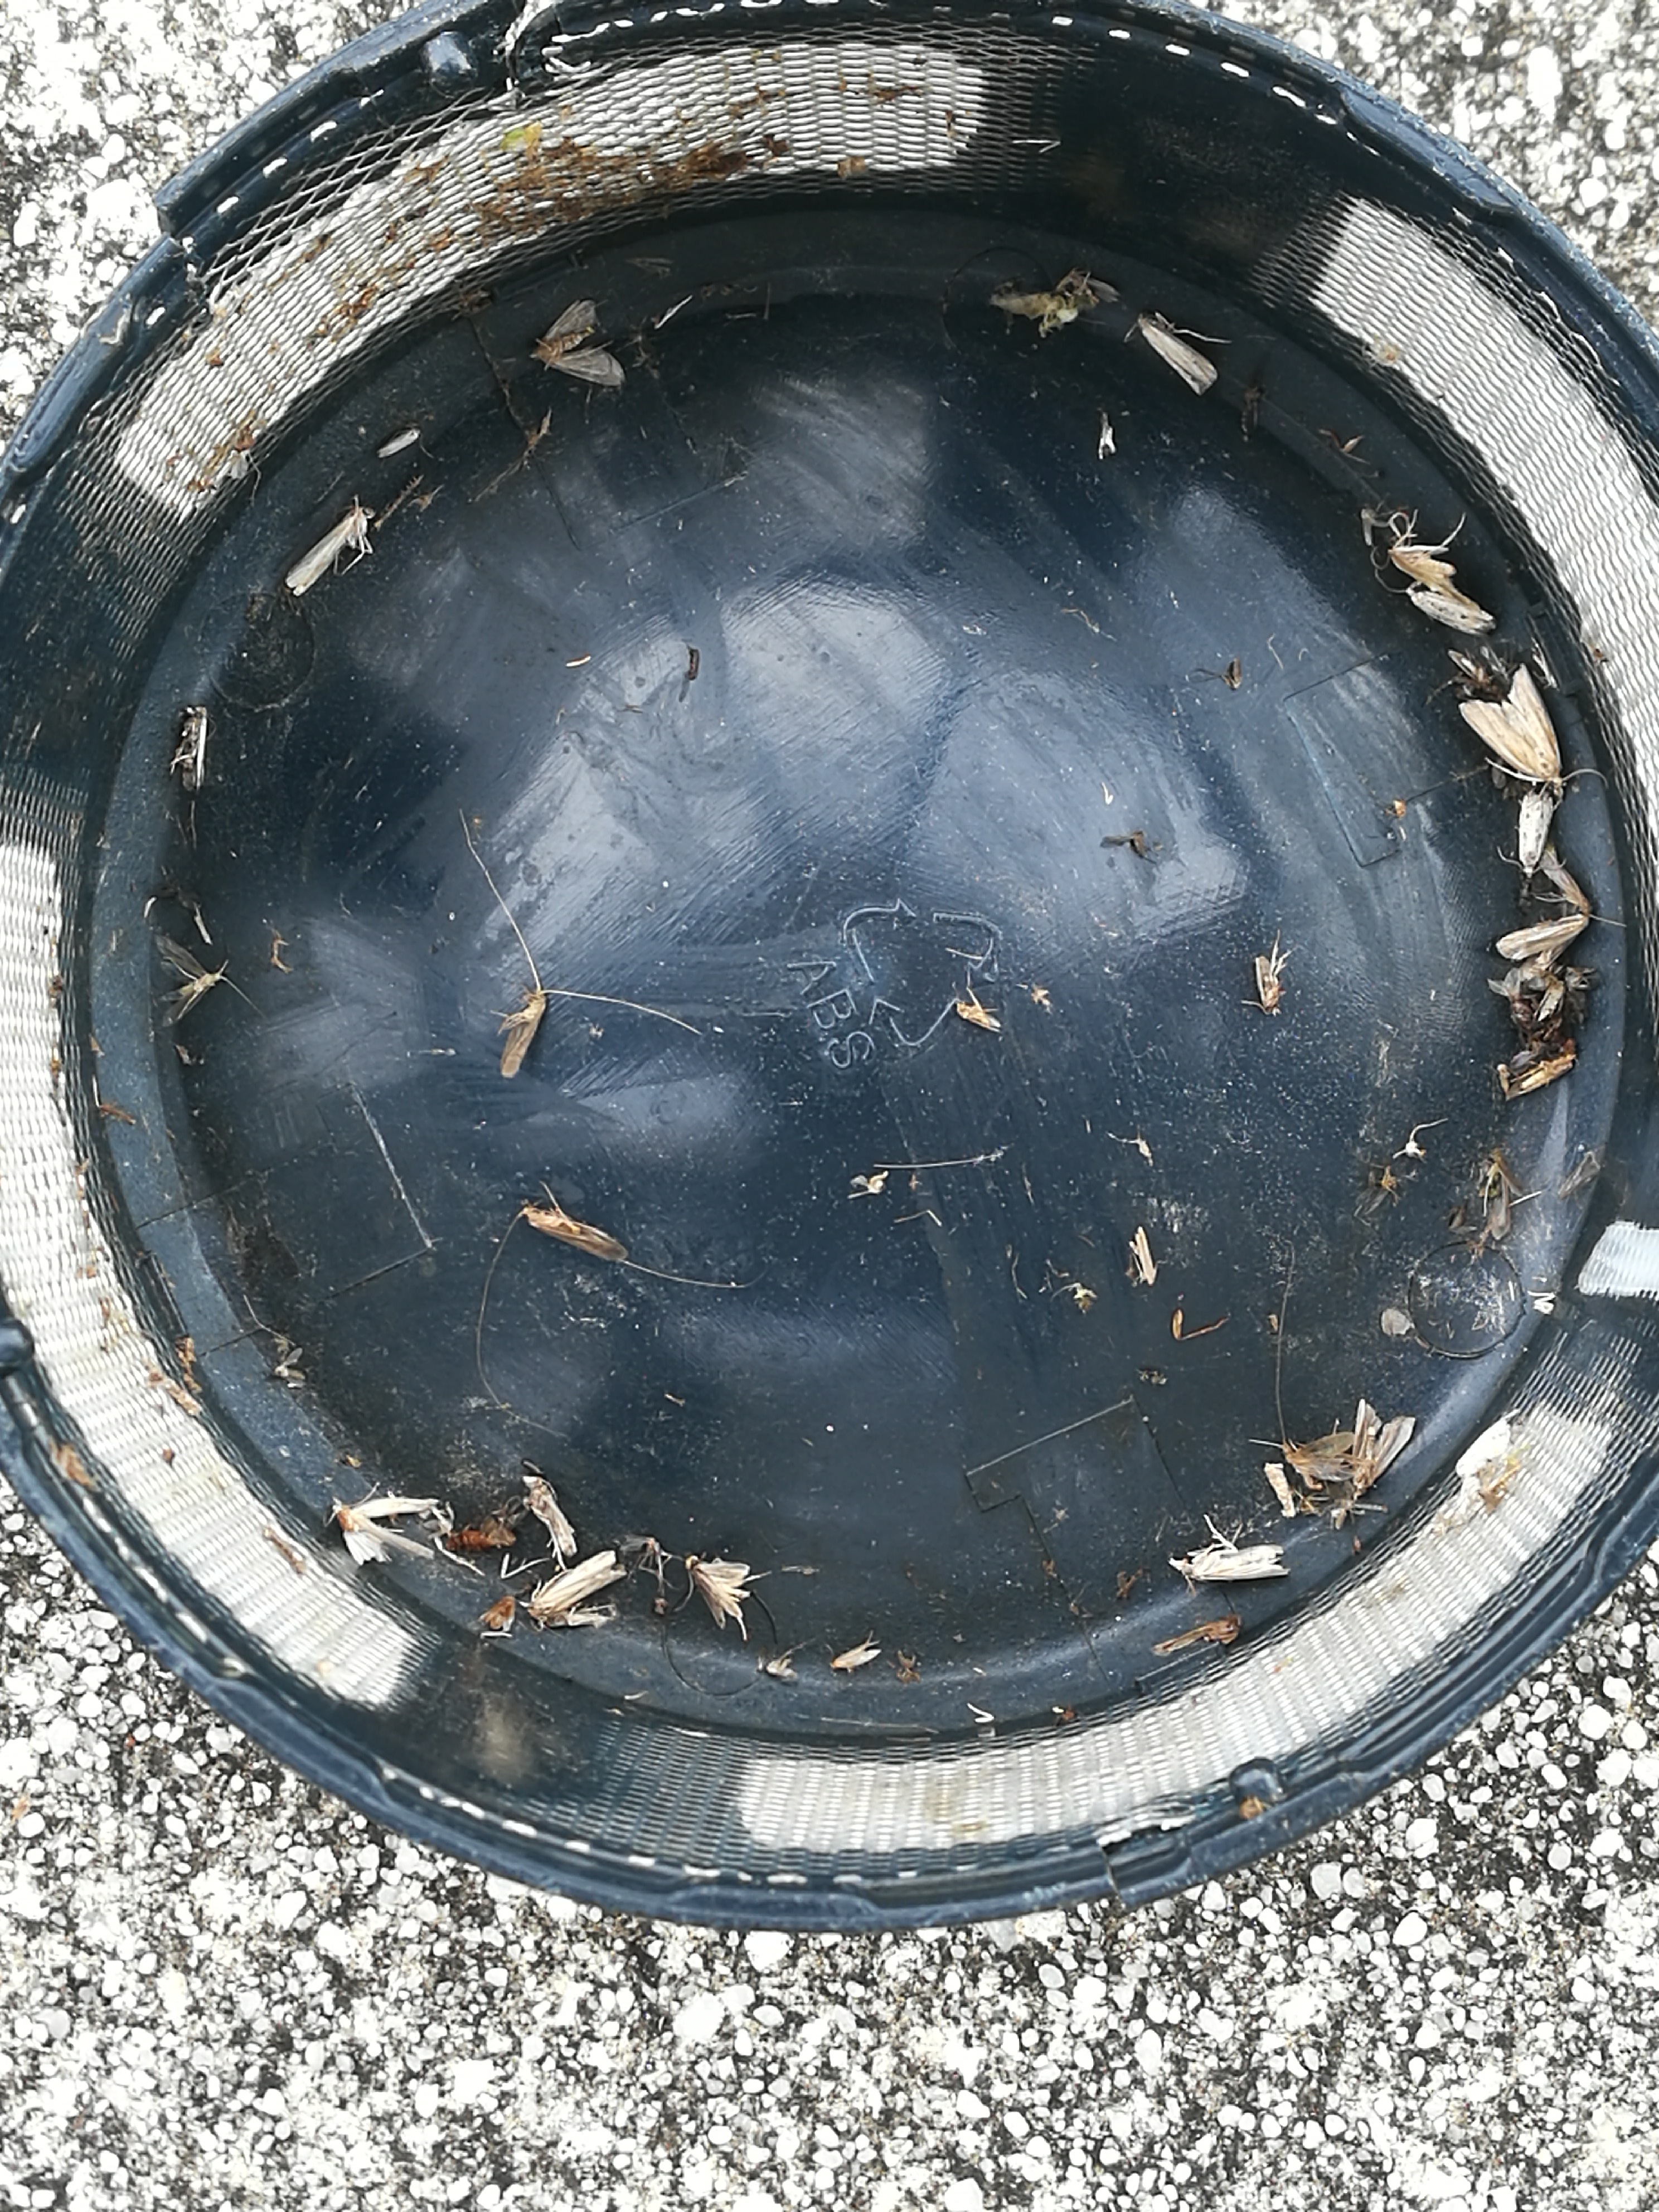mosquito: (286, 505, 376, 596), (530, 1550, 627, 1622), (1138, 312, 1216, 394), (523, 1207, 627, 1263), (1171, 1545, 1288, 1581), (525, 1477, 575, 1555), (1497, 916, 1586, 960), (500, 993, 545, 1076), (1410, 589, 1495, 632), (1542, 850, 1591, 914), (1507, 1055, 1574, 1099), (1518, 792, 1551, 869), (178, 705, 207, 791), (1485, 1150, 1509, 1238), (1255, 958, 1279, 1012), (958, 1001, 999, 1033)
moth: (1462, 664, 1561, 779), (537, 300, 627, 385), (333, 1496, 439, 1566), (1354, 1400, 1417, 1494), (685, 1557, 749, 1629), (1286, 1433, 1354, 1489), (1391, 545, 1457, 590)
